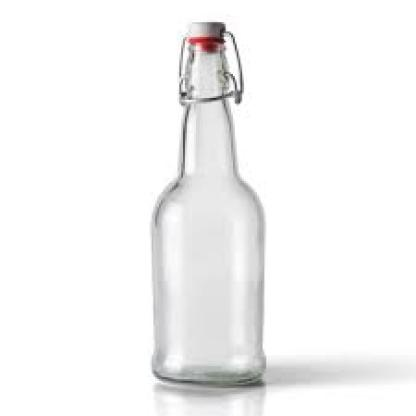trash: (152, 22, 265, 384)
